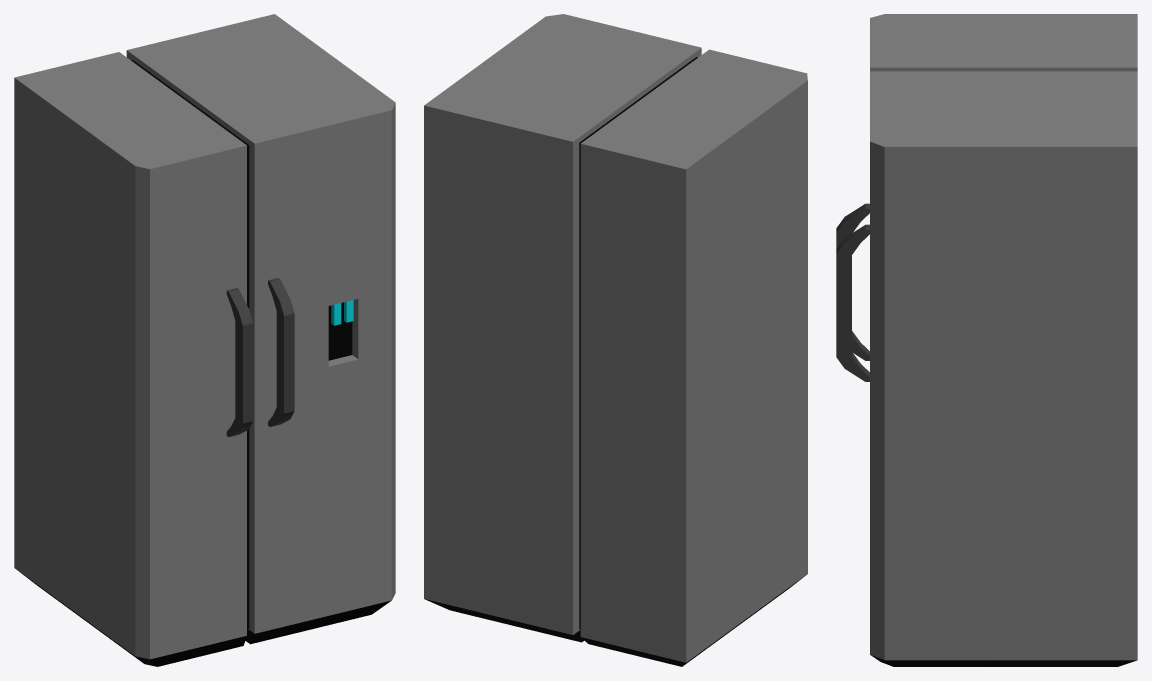
File: Geladeira.fbx
The picture shows the model from 3 angles, left to right: view 1: azimuth 30°, elevation 25°; view 2: azimuth 150°, elevation 25°; view 3: azimuth 270°, elevation 25°; orthographic projection. The views are drawn at different scales.
Parts seen in each view (by area): view 1: Geladeira_Cara; view 2: Geladeira_Cara; view 3: Geladeira_Cara.
Part boxes in pixels (x1,y1,x2,y2): Geladeira_Cara: [14, 14, 395, 666]; Geladeira_Cara: [424, 14, 807, 666]; Geladeira_Cara: [836, 14, 1137, 666].
Size of the model in its own units: 64.58 by 120 by 61.85.
Materials: 1 (1 with a texture image).
